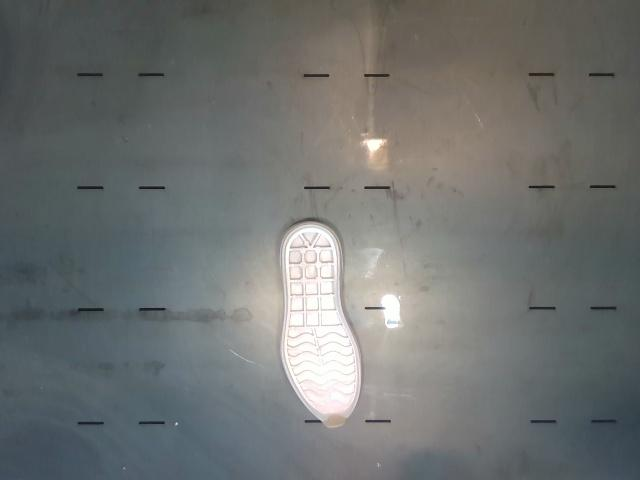shoes: (282, 227, 360, 427)
